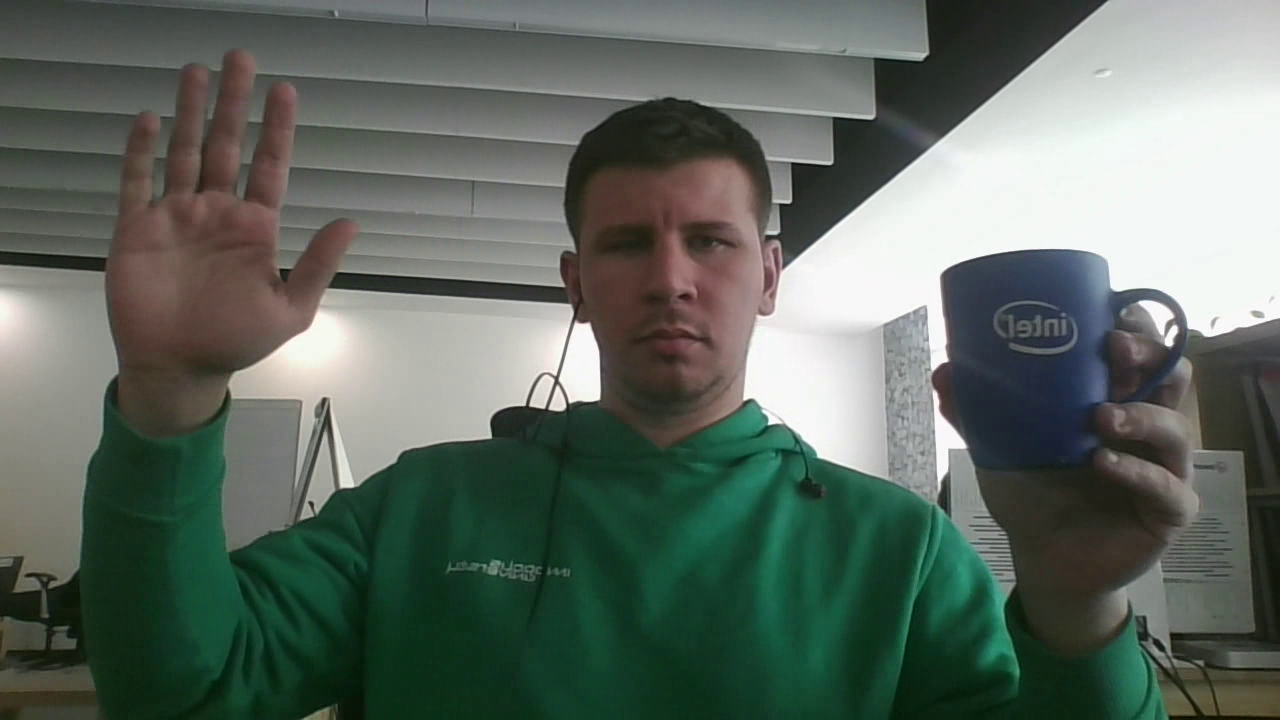cup: (941, 250, 1188, 471)
